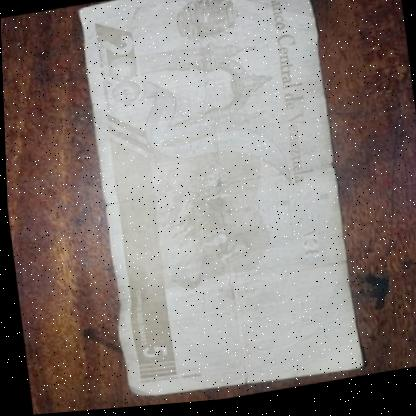five-back-vef: (75, 0, 361, 411)
